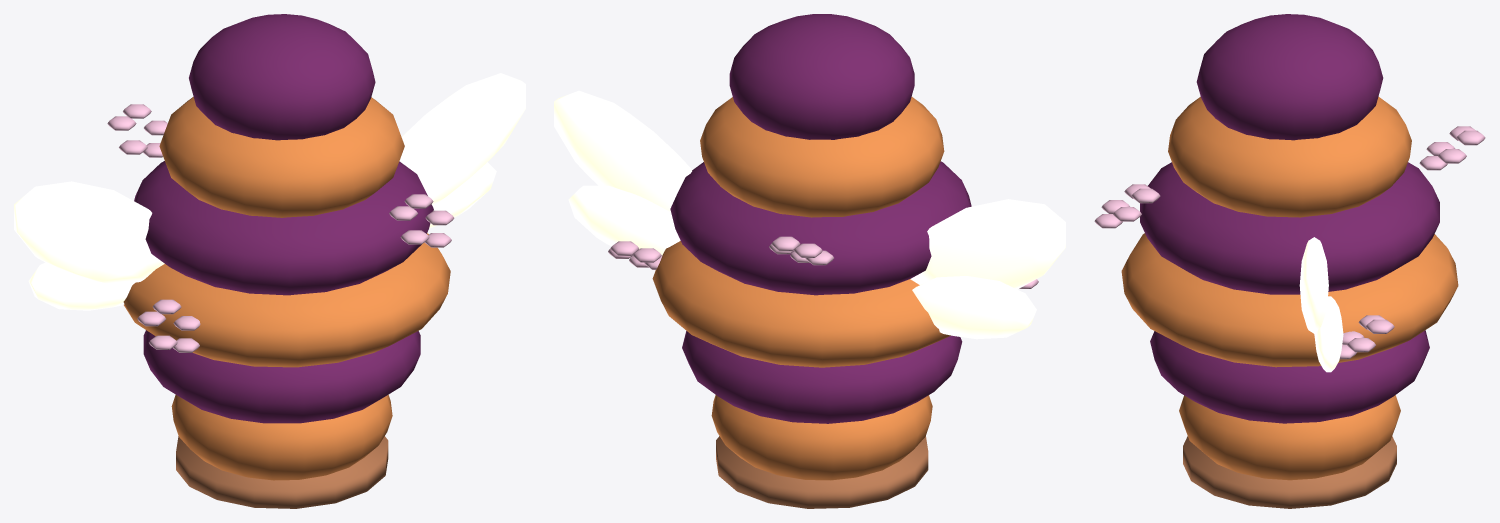
Rendered from egg_volcano_08.glb.
The picture shows the model from 3 angles, left to right: view 1: azimuth 30°, elevation 25°; view 2: azimuth 150°, elevation 25°; view 3: azimuth 270°, elevation 25°; orthographic projection.
Parts seen in each view (by area): view 1: ball; view 2: ball; view 3: ball.
Boxes of the visible parts, box(x1,y1,x2,y2) form: ball: box(14, 14, 525, 508); ball: box(554, 14, 1065, 508); ball: box(1094, 14, 1485, 508).
Size of the model in its own units: 1.2 by 0.99 by 0.8038.
